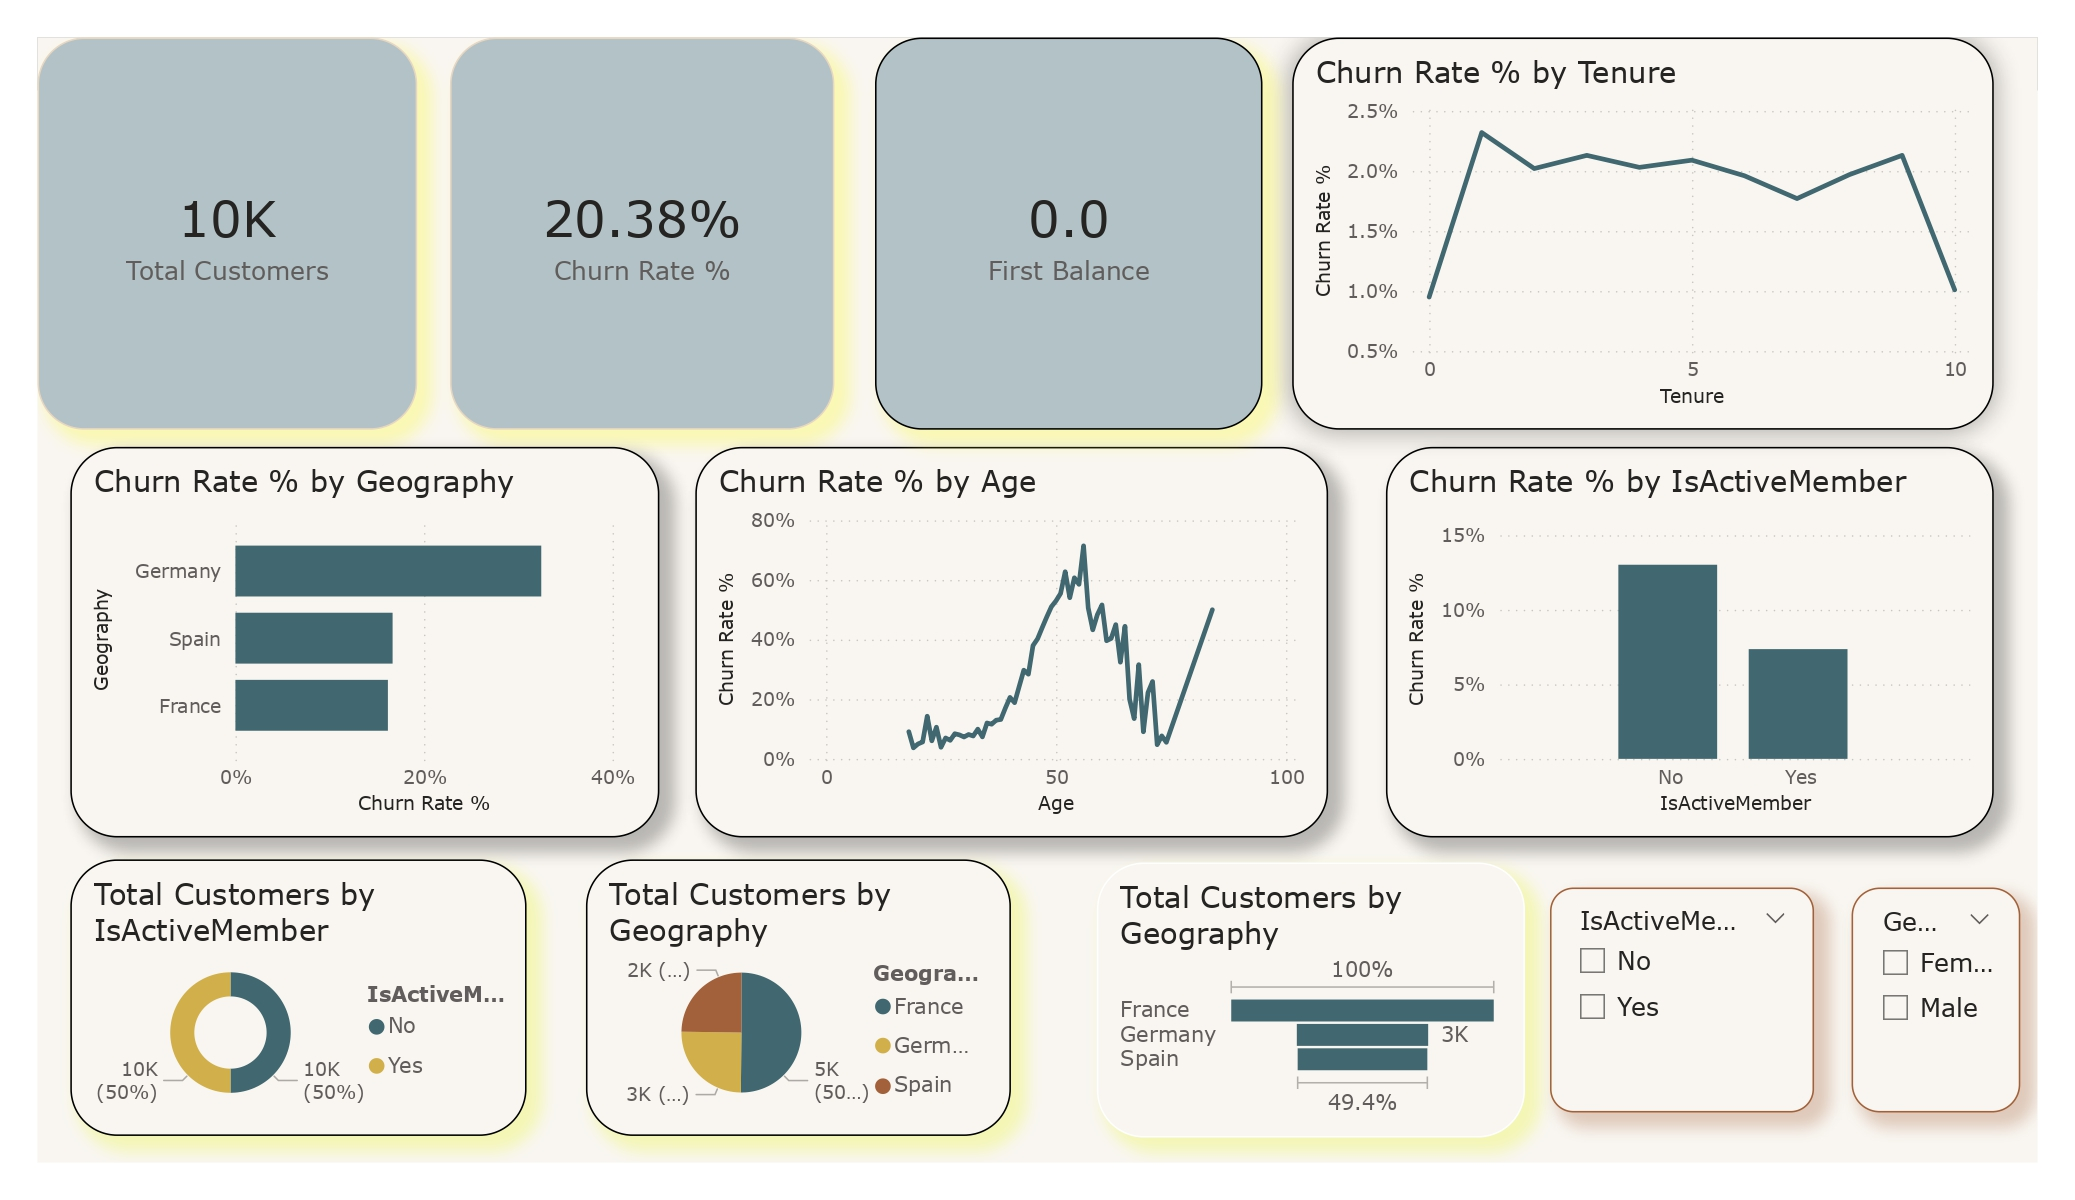

This screenshot's page, from the dashboard's own definition file:
{"tool":"powerbi","page":{"name":"Page 1","canvas":[1280,720],"ordinal":0},"visuals":[{"type":"card","fields":{"Values":["Account_Info.Total Customers"]},"box":[9.7,0,244.5,251],"z":0},{"type":"card","fields":{"Values":["Account_Info.Churn Rate %"]},"box":[263.9,0,246.1,251],"z":1000},{"type":"card","fields":{"Values":["Min(Account_Info.Balance)"]},"box":[521.4,0,257.5,251],"z":2000},{"type":"clusteredBarChart","fields":{"Y":["Account_Info.Churn Rate %"],"Category":["Customer_Info.Geography"]},"box":[21,262.3,377.3,249.4],"z":3000},{"type":"lineChart","fields":{"Category":["Customer_Info.Age"],"Y":["Account_Info.Churn Rate %"]},"box":[421,262.3,404.8,249.4],"z":4000},{"type":"slicer","fields":{"Values":["Customer_Info.Gender"]},"box":[1161,544.1,108.5,144.1],"z":5000},{"type":"slicer","fields":{"Values":["Account_Info.IsActiveMember"]},"box":[968.3,544.1,179.7,144.1],"z":6000},{"type":"lineStackedColumnComboChart","fields":{"Y":["Account_Info.Churn Rate %"],"Category":["Account_Info.IsActiveMember"]},"box":[863,262.3,388.6,249.4],"z":7000},{"type":"lineChart","fields":{"Category":["Account_Info.Tenure"],"Y":["Account_Info.Churn Rate %"]},"box":[803.1,0,448.5,251],"z":7001},{"type":"donutChart","fields":{"Category":["Account_Info.IsActiveMember"],"Y":["Account_Info.Total Customers"]},"box":[21,526.2,291.5,176.5],"z":7002},{"type":"pieChart","fields":{"Y":["Account_Info.Total Customers"],"Category":["Customer_Info.Geography"]},"box":[351.4,526.2,272,176.5],"z":7003},{"type":"funnel","fields":{"Category":["Customer_Info.Geography"],"Y":["Account_Info.Total Customers"]},"box":[678.5,527.9,273.6,176.5],"z":7004}]}

Visuals, with their boxes in screenshot pixels (x1, y1, x2, y2):
card - Account_Info.Total Customers: [69, 38, 446, 425]
card - Account_Info.Churn Rate %: [461, 38, 840, 425]
card - Min(Account_Info.Balance): [858, 38, 1255, 425]
clusteredBarChart - Account_Info.Churn Rate % x Customer_Info.Geography: [86, 442, 668, 827]
lineChart - Customer_Info.Age x Account_Info.Churn Rate %: [703, 442, 1327, 827]
slicer - Customer_Info.Gender: [1844, 877, 2012, 1099]
slicer - Account_Info.IsActiveMember: [1547, 877, 1824, 1099]
lineStackedColumnComboChart - Account_Info.Churn Rate % x Account_Info.IsActiveMember: [1385, 442, 1984, 827]
lineChart - Account_Info.Tenure x Account_Info.Churn Rate %: [1292, 38, 1984, 425]
donutChart - Account_Info.IsActiveMember x Account_Info.Total Customers: [86, 849, 536, 1121]
pieChart - Account_Info.Total Customers x Customer_Info.Geography: [596, 849, 1015, 1121]
funnel - Customer_Info.Geography x Account_Info.Total Customers: [1100, 852, 1522, 1124]
